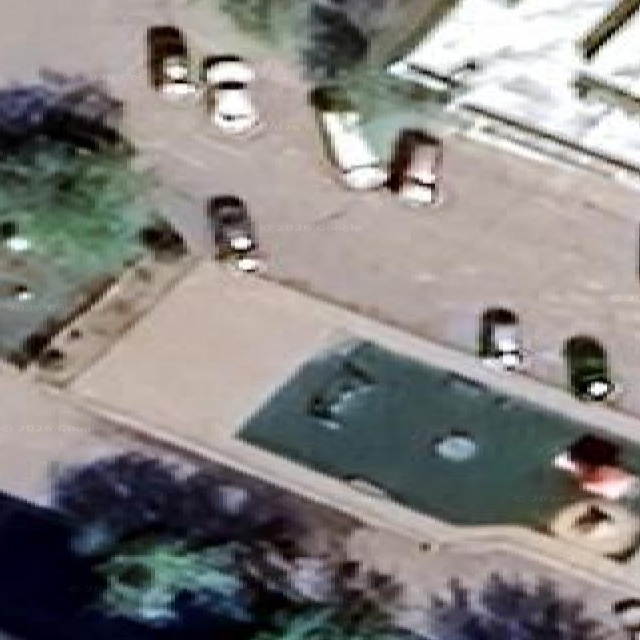car: (0, 69, 131, 150), (308, 86, 387, 189), (40, 69, 131, 150), (201, 55, 258, 133), (388, 129, 442, 204), (206, 195, 257, 271), (146, 25, 195, 98), (563, 335, 617, 400), (479, 308, 523, 370), (612, 597, 640, 640)
